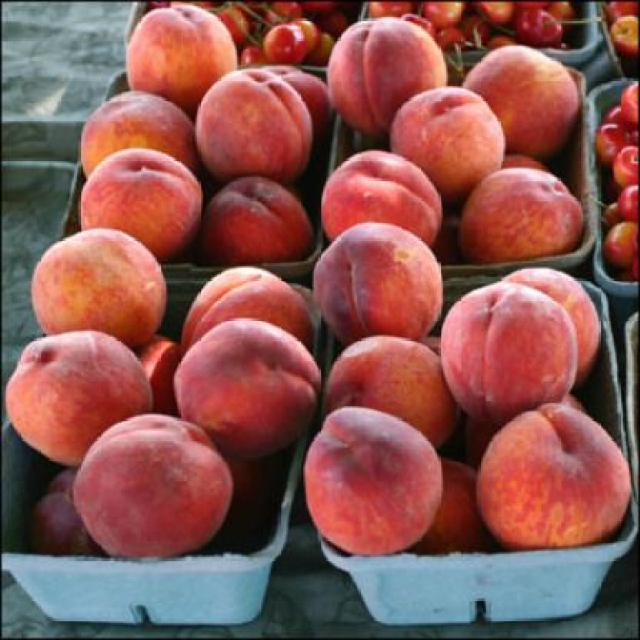Peach: (6, 4, 634, 564), (66, 411, 240, 560)
